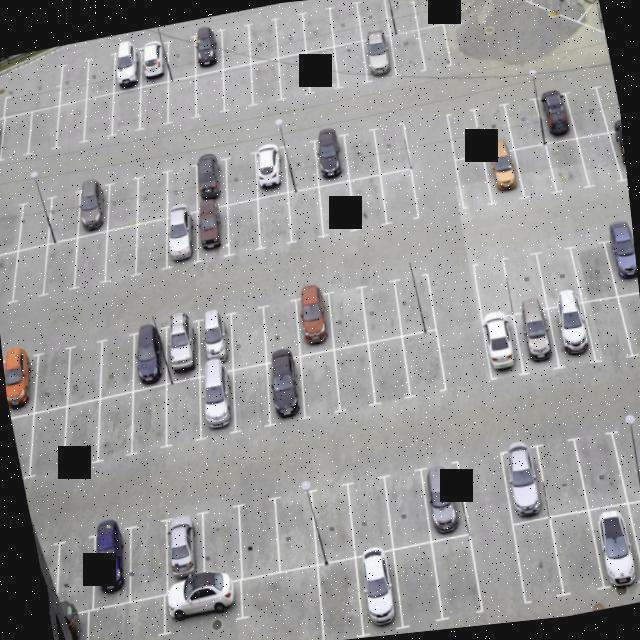space-empty: (547, 505, 608, 599), (505, 511, 564, 607), (310, 548, 367, 640), (390, 538, 446, 624), (342, 472, 397, 558), (429, 531, 484, 615), (47, 532, 103, 614), (233, 566, 320, 617), (120, 517, 173, 596), (4, 188, 65, 255), (380, 465, 431, 544), (577, 433, 628, 511), (122, 381, 177, 453), (268, 486, 316, 566), (303, 475, 351, 554), (83, 595, 167, 640), (21, 406, 78, 472), (537, 440, 585, 517), (67, 225, 119, 294), (197, 504, 246, 577), (235, 500, 283, 574), (55, 398, 106, 466), (90, 393, 142, 459), (399, 325, 445, 399), (34, 239, 88, 301), (23, 343, 74, 408), (123, 218, 177, 279), (585, 296, 632, 366), (364, 333, 411, 403), (231, 362, 278, 431), (91, 333, 142, 396), (39, 186, 90, 249), (296, 345, 343, 412), (327, 342, 376, 406), (97, 224, 148, 285), (389, 269, 437, 333), (571, 239, 618, 304), (161, 373, 208, 438), (127, 167, 178, 226), (75, 41, 122, 104), (354, 274, 401, 336), (60, 340, 106, 403), (99, 174, 148, 232), (501, 250, 546, 313), (537, 243, 582, 306), (255, 296, 301, 357), (283, 185, 329, 246), (252, 190, 298, 251), (8, 248, 60, 301), (273, 48, 319, 107), (468, 256, 511, 319), (315, 178, 358, 241), (323, 287, 367, 348), (346, 175, 390, 235), (219, 147, 263, 207), (220, 195, 264, 255), (0, 75, 63, 116), (246, 52, 292, 108), (216, 58, 261, 115), (573, 129, 618, 185), (224, 308, 267, 366), (157, 156, 200, 214), (276, 135, 320, 191), (50, 50, 96, 103), (371, 121, 415, 176), (52, 96, 93, 155), (545, 136, 585, 194), (81, 88, 121, 146), (612, 426, 640, 508), (512, 143, 555, 195), (503, 97, 546, 149), (107, 86, 150, 138), (380, 167, 419, 224), (11, 409, 44, 476), (333, 38, 371, 96), (475, 101, 515, 155), (164, 72, 202, 128), (387, 23, 426, 76), (141, 77, 176, 136), (267, 7, 309, 56), (340, 126, 379, 178), (192, 67, 229, 120), (417, 19, 454, 72), (305, 44, 340, 99), (455, 151, 492, 203), (568, 84, 605, 136), (30, 104, 63, 161), (446, 105, 482, 156), (162, 28, 201, 75), (218, 23, 257, 69), (298, 2, 337, 48), (0, 195, 25, 261), (242, 17, 282, 58), (3, 110, 33, 164), (616, 290, 640, 357), (327, 2, 364, 44), (596, 79, 622, 134), (0, 248, 24, 306), (353, 0, 389, 37), (383, 0, 419, 33), (631, 500, 640, 582)
space-occupied: (348, 549, 403, 633), (157, 577, 244, 630), (591, 506, 640, 590), (420, 460, 472, 539), (84, 525, 133, 607), (187, 363, 242, 435), (497, 444, 548, 518), (508, 302, 559, 376), (547, 298, 597, 371), (158, 513, 206, 588), (261, 355, 308, 425), (70, 172, 118, 239), (156, 311, 200, 381), (478, 314, 526, 378), (188, 202, 235, 264), (2, 351, 45, 416), (162, 206, 208, 266), (290, 289, 335, 350), (124, 322, 166, 386), (193, 309, 235, 369), (248, 140, 291, 198), (307, 127, 346, 184), (190, 154, 229, 210), (359, 28, 398, 84), (535, 92, 574, 144), (486, 147, 523, 201), (133, 35, 175, 82), (607, 235, 639, 293), (189, 26, 228, 73), (107, 45, 146, 89), (607, 127, 627, 183)
